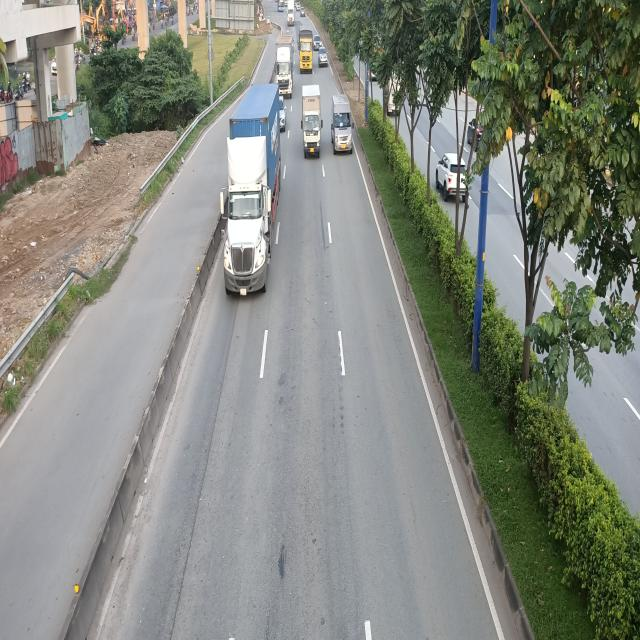car: (319, 50, 328, 68), (313, 33, 322, 49)
container: (217, 86, 280, 297)
truck: (302, 84, 323, 158), (275, 37, 294, 97), (299, 24, 313, 75)
van: (332, 96, 355, 155)
